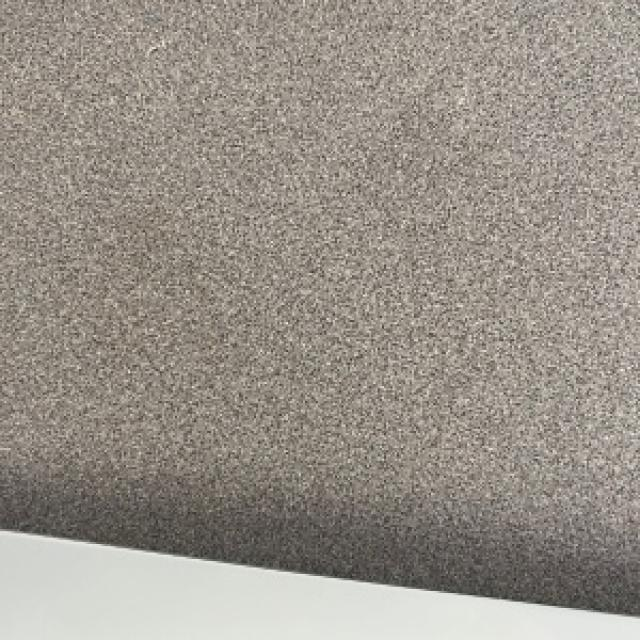healthy: (0, 0, 638, 612), (0, 529, 638, 638)
